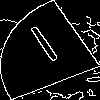I: (25, 24, 69, 72)
